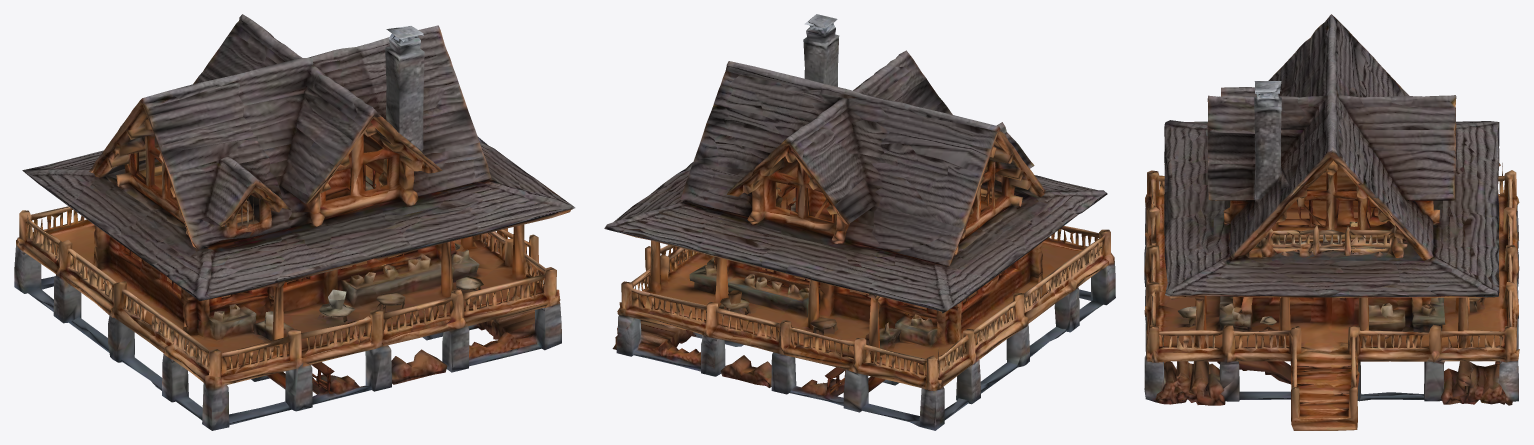
Rendered from woodhouse.glb.
The picture shows the model from 3 angles, left to right: view 1: azimuth 30°, elevation 25°; view 2: azimuth 150°, elevation 25°; view 3: azimuth 270°, elevation 25°; orthographic projection. The views are drawn at different scales.
Parts seen in each view (by area): view 1: Object_4; view 2: Object_4; view 3: Object_4.
Part boxes in pixels (<box>): Object_4: <box>14,14,575,430</box>; Object_4: <box>604,14,1115,430</box>; Object_4: <box>1144,14,1519,430</box>.
Bounding box in the file's own units: 0.9992 × 0.6651 × 0.8255.
1 material, 1 textured.
